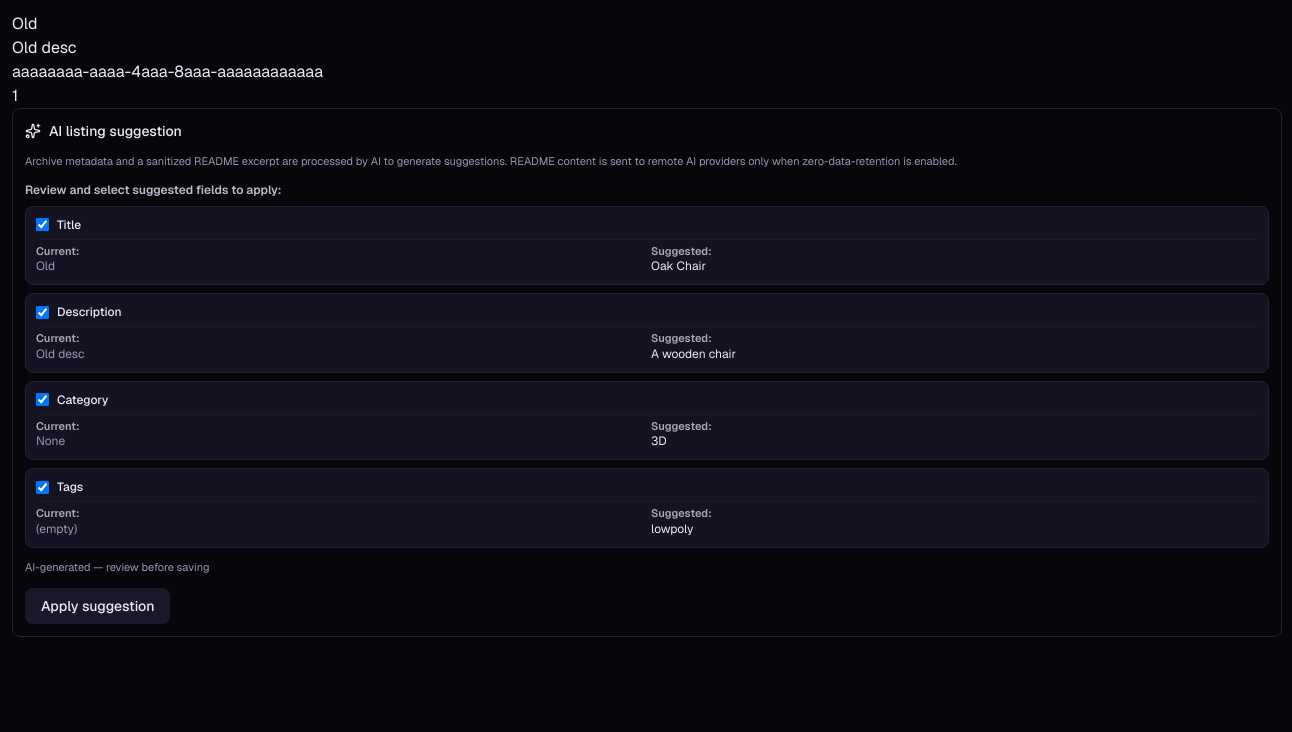
it: ListingCopilotPanel › applies only listing fields from a suggestion
Expected: the text "Oak Chair" is shown, [651,258,706,274]
What coordinates should you click on to do the following:
click the button "Apply suggestion"
I would click on:
 (98, 606)
Its box is [25,588,170,624].
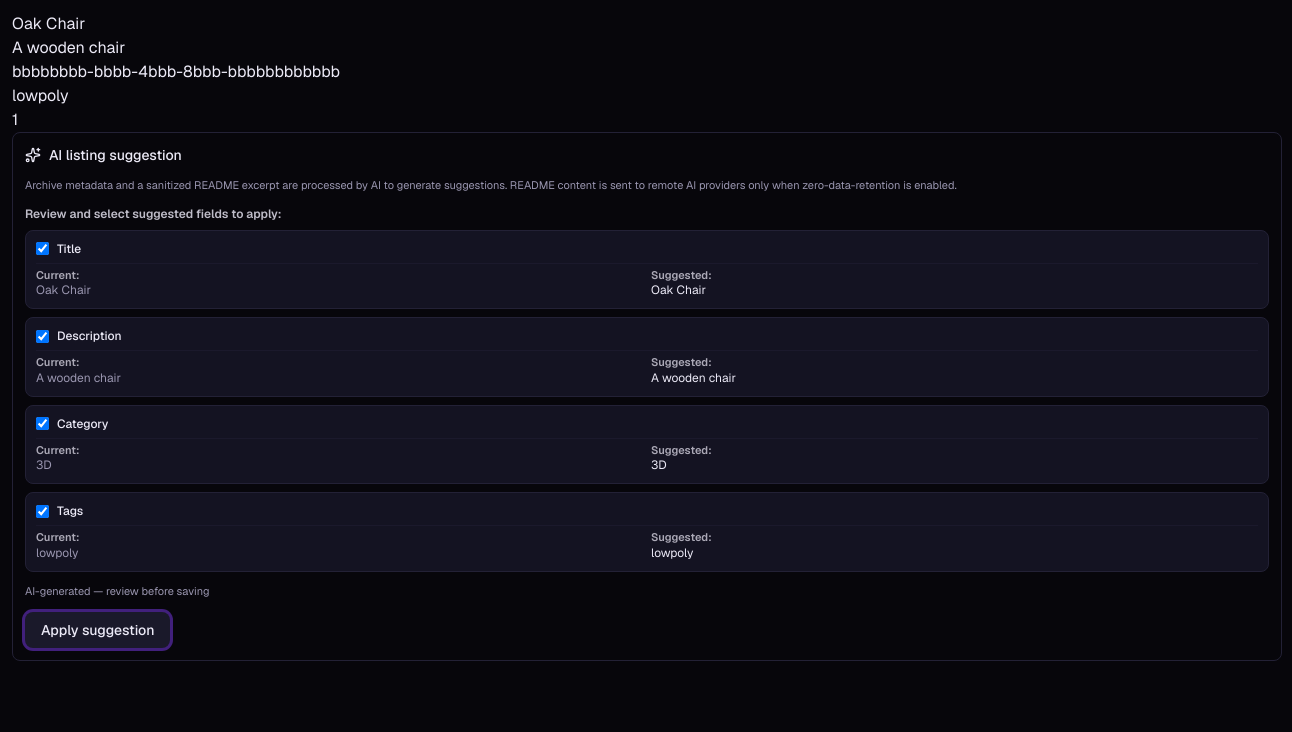
Now the text with test id "title" reads "Oak Chair", box [12,13,85,34]
Now the text with test id "description" reads "A wooden chair", box [12,37,125,58]
Now the text with test id "category" reads "bbbbbbbb-bbbb-4bbb-8bbb-bbbbbbbbbbbb", box [12,61,340,82]
